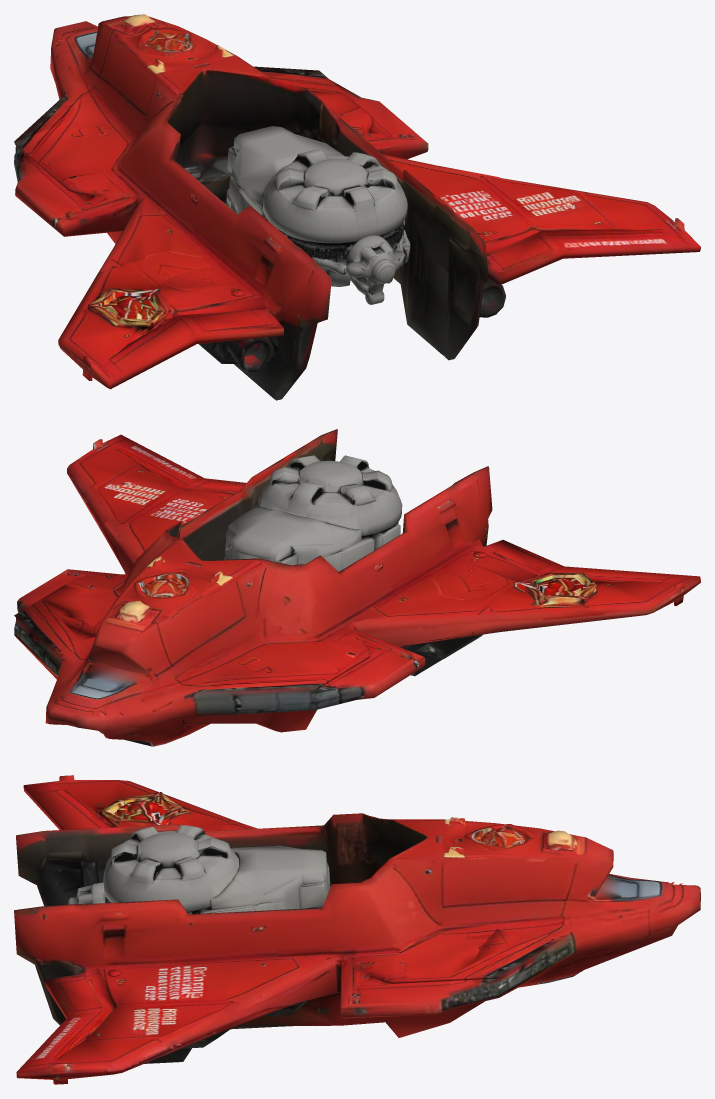
File: fighter.glb
The picture shows the model from 3 angles, top to bottom: view 1: azimuth 30°, elevation 25°; view 2: azimuth 150°, elevation 25°; view 3: azimuth 270°, elevation 25°; orthographic projection.
Visible parts, largest first — view 1: mesh_rep_0_ori_repair_quad.obj.001, mesh_rep_0_ori_repair_quad.obj; view 2: mesh_rep_0_ori_repair_quad.obj.001, mesh_rep_0_ori_repair_quad.obj; view 3: mesh_rep_0_ori_repair_quad.obj.001, mesh_rep_0_ori_repair_quad.obj.
Boxes of the visible parts, x1,y1,x2,y2 form: mesh_rep_0_ori_repair_quad.obj.001: (14, 14, 700, 400); mesh_rep_0_ori_repair_quad.obj: (226, 126, 410, 304); mesh_rep_0_ori_repair_quad.obj.001: (14, 429, 700, 746); mesh_rep_0_ori_repair_quad.obj: (224, 455, 402, 571); mesh_rep_0_ori_repair_quad.obj.001: (14, 775, 700, 1084); mesh_rep_0_ori_repair_quad.obj: (67, 825, 330, 914).
Bounding box in the file's own units: 0.9898 × 0.3116 × 1.
Materials: 2 (2 with a texture image).
